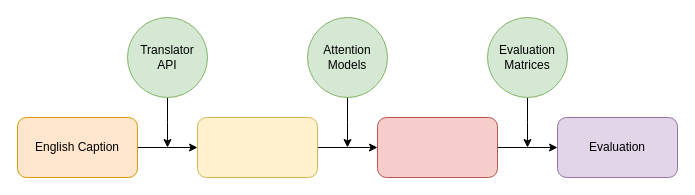
Image size: 695x195. Some labels were removed from this diagram. The shapes that lost their labels are listed below. From the top down, each one's box as (x1, y1, x2, y2) in pixels, then its label:
(196, 116, 318, 178): Bangla Caption
(376, 116, 498, 178): Prediction
